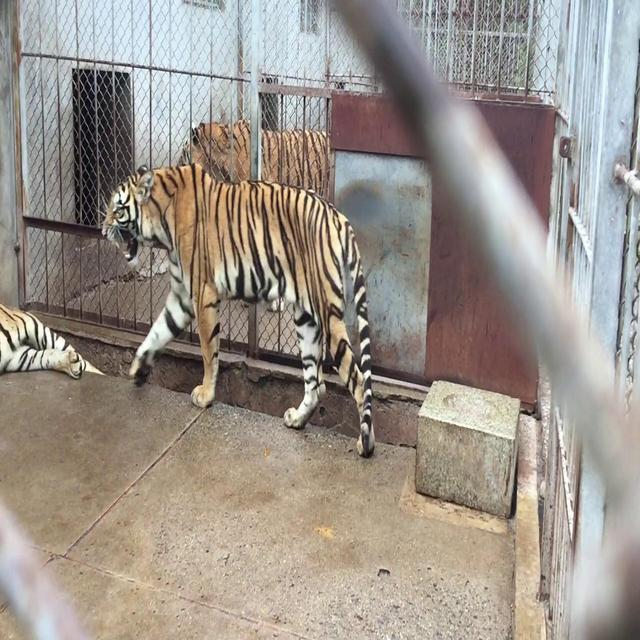tiger: (99, 161, 376, 458), (178, 118, 331, 200), (0, 301, 105, 380)
